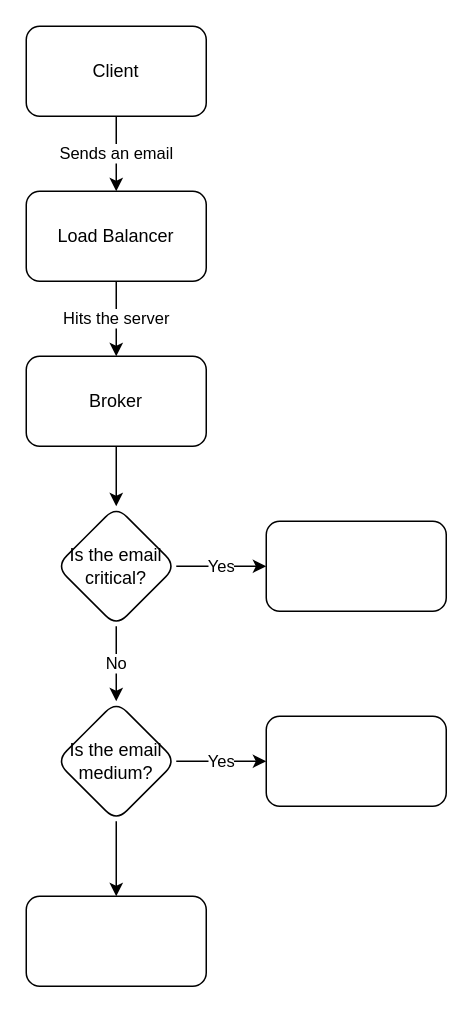
Some shapes in this 473 by 1013 pixel diagram are drawn without their labels. Here are the shapes that lost their labels. From the top down, the centre of each, then its label:
At (x=355, y=565): "Add to Critical queue".
At (x=355, y=760): "Add to medium queue".
At (x=115, y=940): "Add to low queue".
